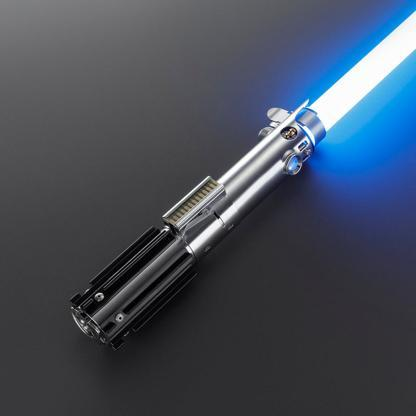lightsaber: (69, 12, 416, 354)
